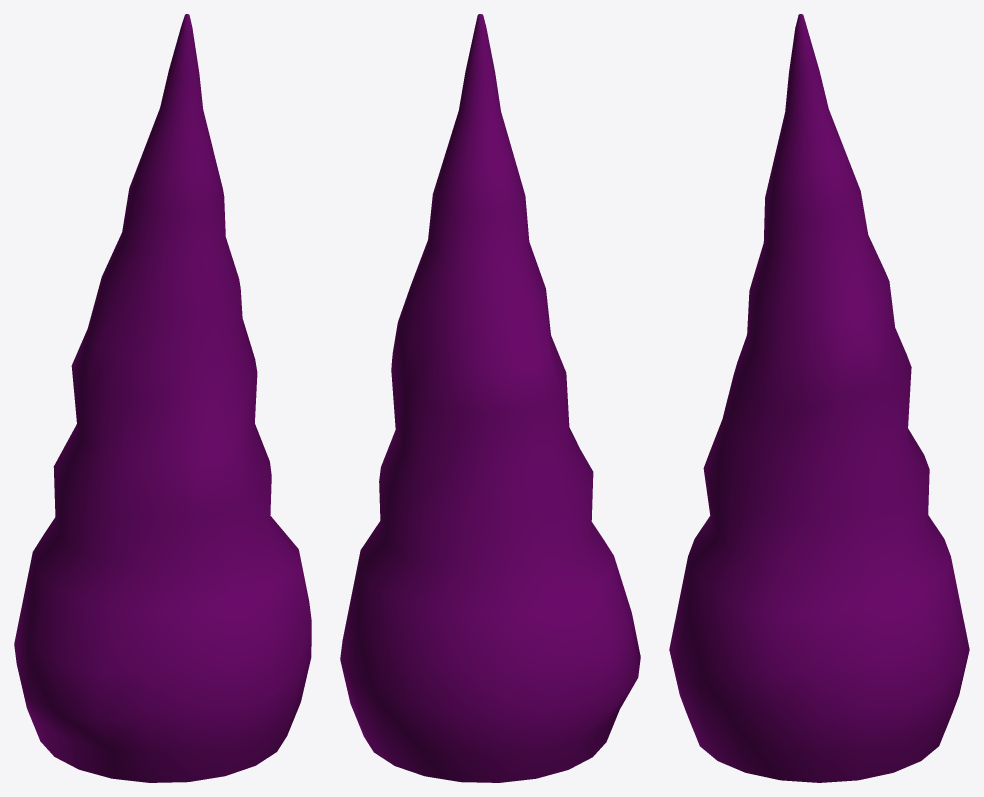
The model's file is GroundSpike1.fbx.
3 renders of one model, left to right at view 1: azimuth 30°, elevation 25°; view 2: azimuth 150°, elevation 25°; view 3: azimuth 270°, elevation 25°, orthographic. The views are drawn at different scales.
Visible parts, largest first — view 1: pCylinder1; view 2: pCylinder1; view 3: pCylinder1.
Part boxes in pixels (x1,y1,x2,y2): pCylinder1: [14, 14, 311, 782]; pCylinder1: [340, 14, 640, 782]; pCylinder1: [669, 14, 969, 782].
Size of the model in its own units: 1.98 by 5.1 by 1.92.
